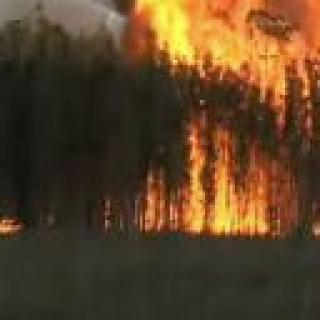fire: (132, 0, 320, 232), (0, 209, 22, 236)
